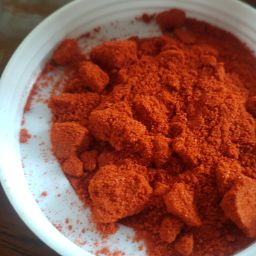Red chilli: (57, 11, 256, 256), (75, 52, 252, 229), (130, 86, 250, 223)
